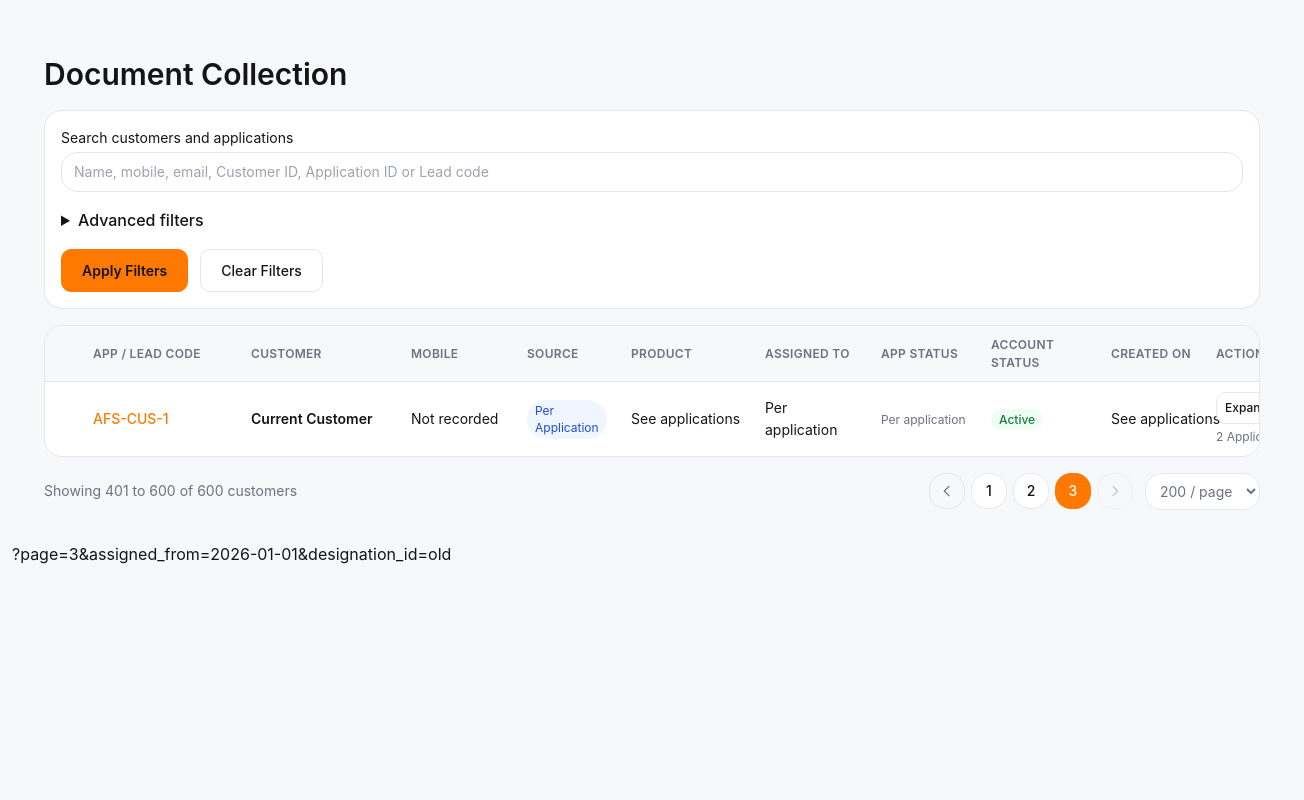
Test: debounces live search, resets page and URL, drops removed payload fields, and clears without Enter
This screenshot has width=1304, height=800.
Replace the text in the search field with "Current" at (652, 172), box x1=61 y1=152 x2=1243 y2=192
Wait 150 ms
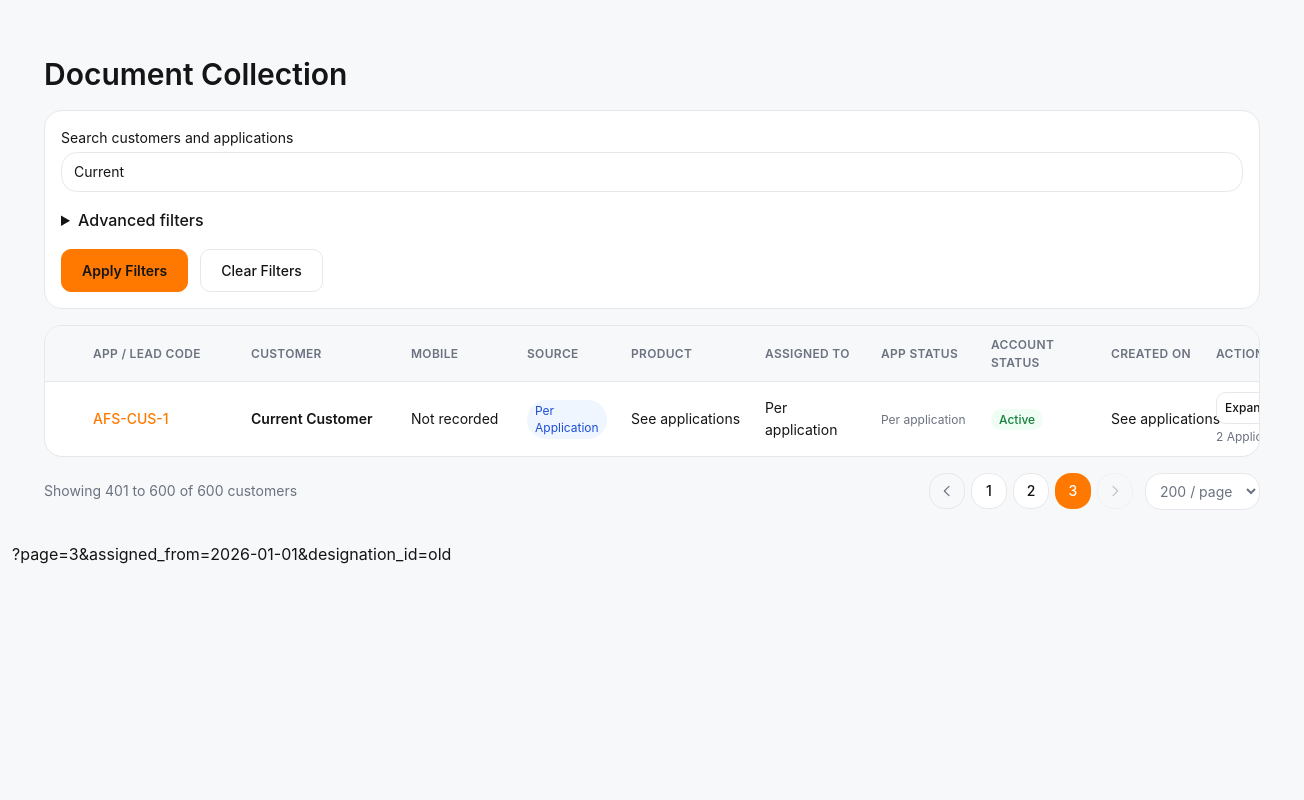
Replace the text in the search field with "9000000000" at (652, 172), box x1=61 y1=152 x2=1243 y2=192
Wait 351 ms
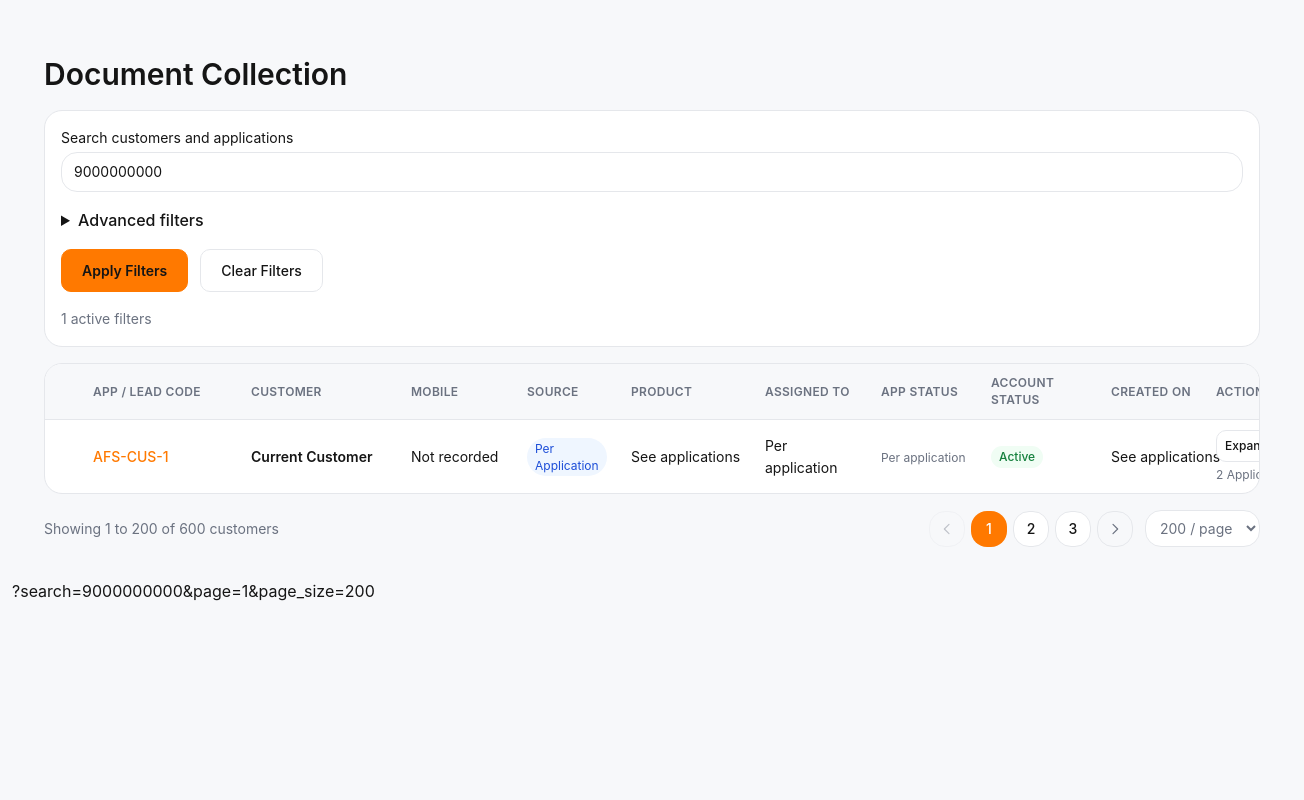
Result: the text with test id "location" shows "search=9000000000" at x1=12 y1=581 x2=375 y2=601
Clear the search field at (652, 172), box x1=61 y1=152 x2=1243 y2=192
Wait 351 ms
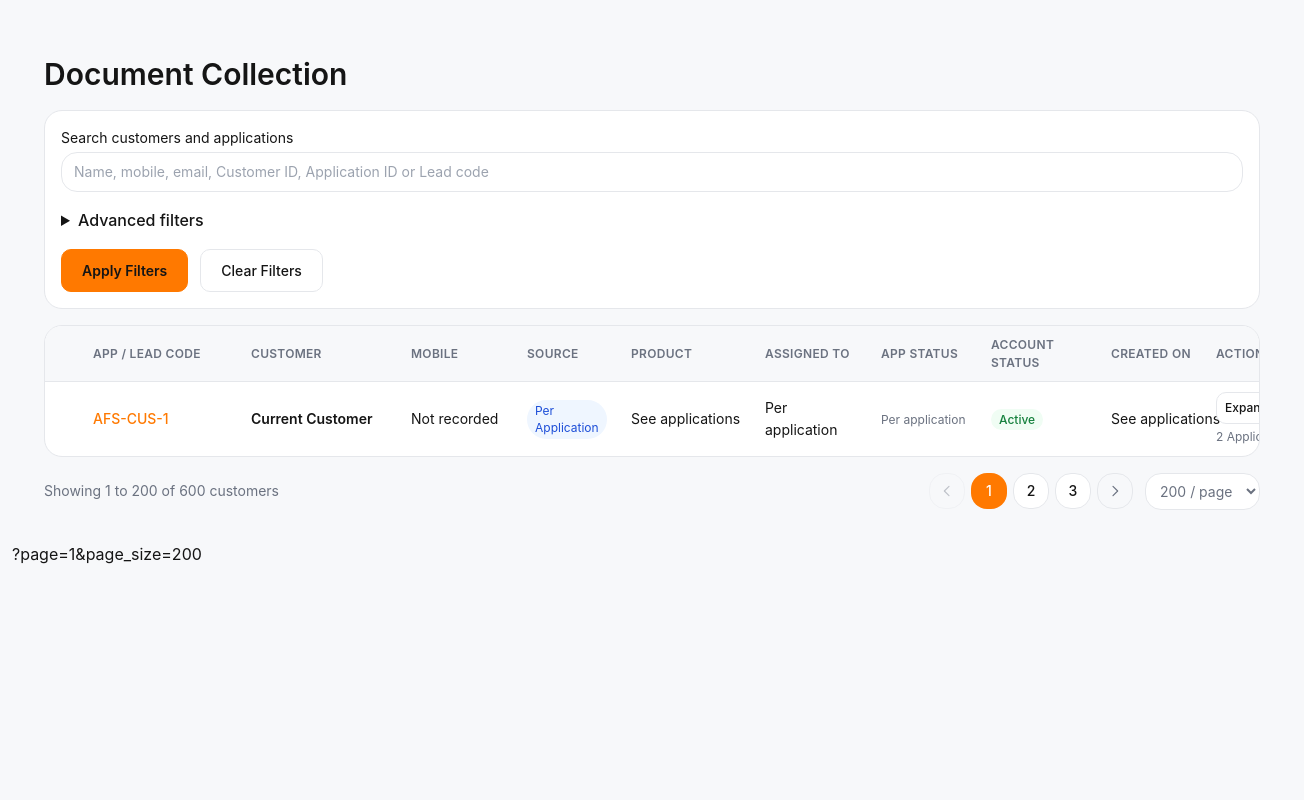
Result: the text with test id "location" no longer shows "search=" at x1=12 y1=544 x2=202 y2=564
